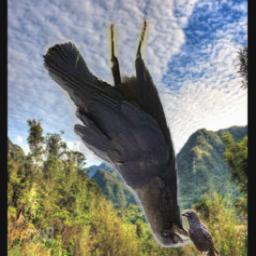Crow: (42, 21, 193, 248), (181, 211, 219, 256)
